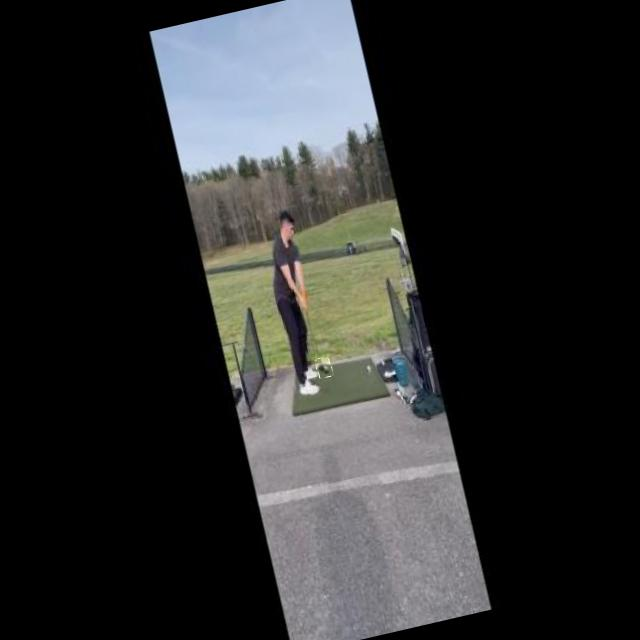club head: (315, 356, 333, 379)
